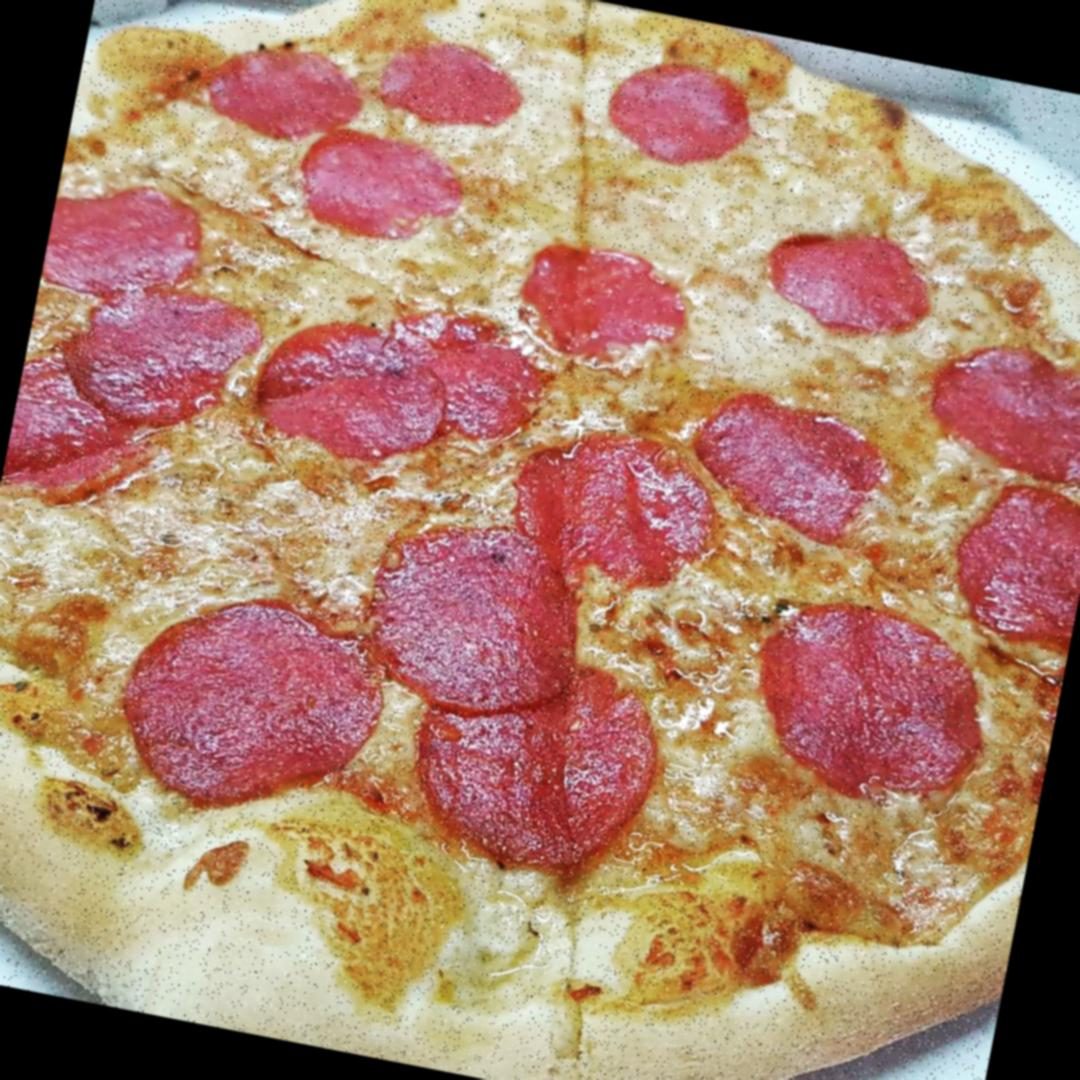Pepperoni: (102, 583, 408, 812), (742, 598, 1002, 812), (414, 642, 661, 864), (360, 514, 600, 711), (50, 277, 265, 445), (509, 418, 720, 584), (0, 340, 189, 522), (692, 384, 892, 543), (258, 310, 454, 464), (510, 233, 700, 378), (926, 325, 1080, 491), (42, 166, 223, 306), (949, 472, 1080, 661), (758, 219, 932, 348), (600, 57, 764, 180), (300, 122, 464, 245), (212, 31, 374, 153), (414, 310, 548, 448), (388, 28, 533, 134)
Pizza: (0, 0, 1080, 1080)
